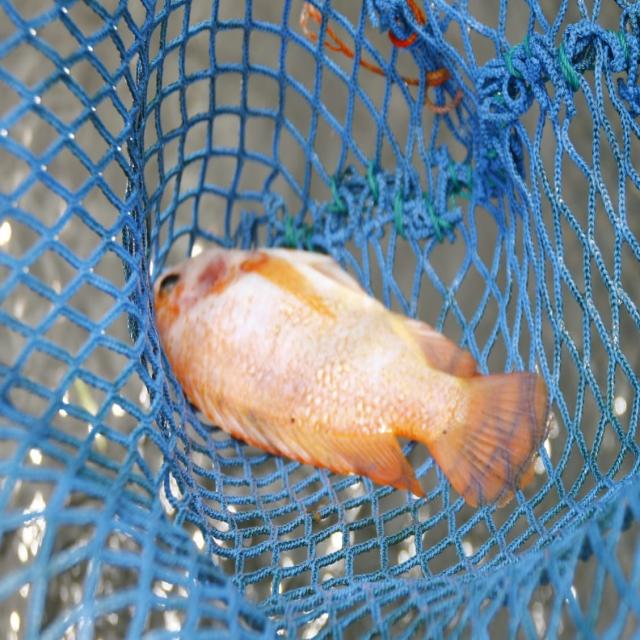ikan: (151, 244, 557, 512)
